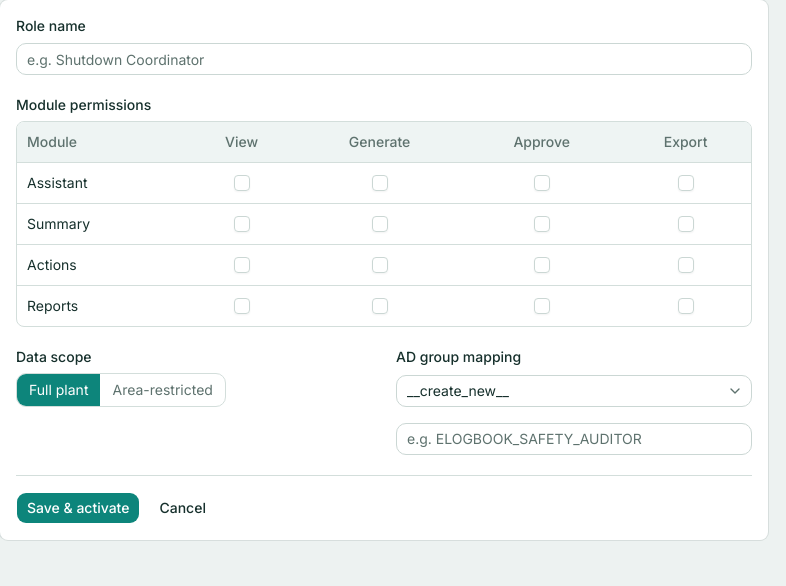
Test: RoleForm › checks a permission cell and includes it in the submitted values
Type "Safety Auditor" into the field labelled "Role name" at (384, 59), box [16, 43, 752, 75]
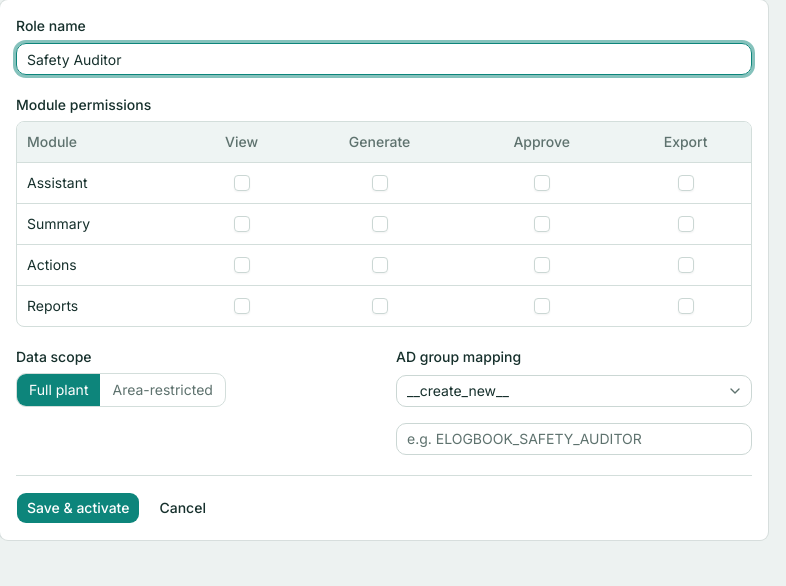
Click the checkbox named "Reports — Export" at (686, 306), box [678, 298, 694, 314]
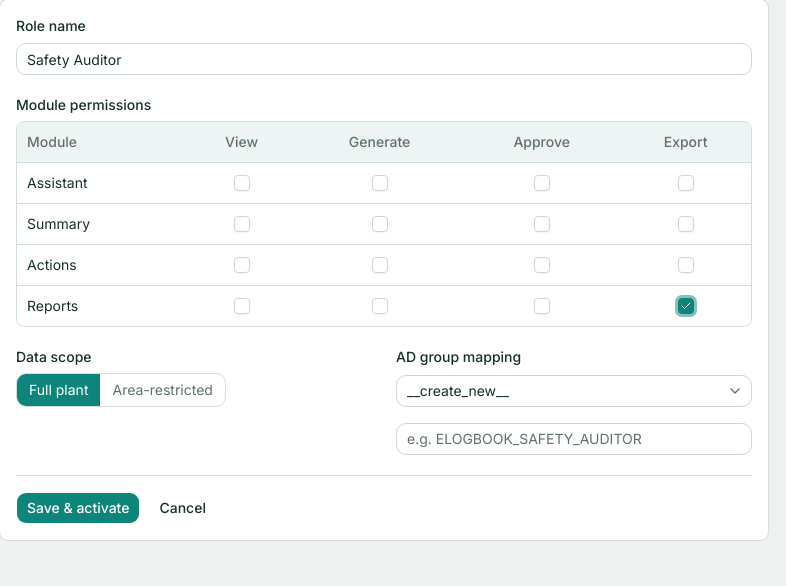
Click the button "Save & activate" at (78, 508), box [16, 492, 140, 524]
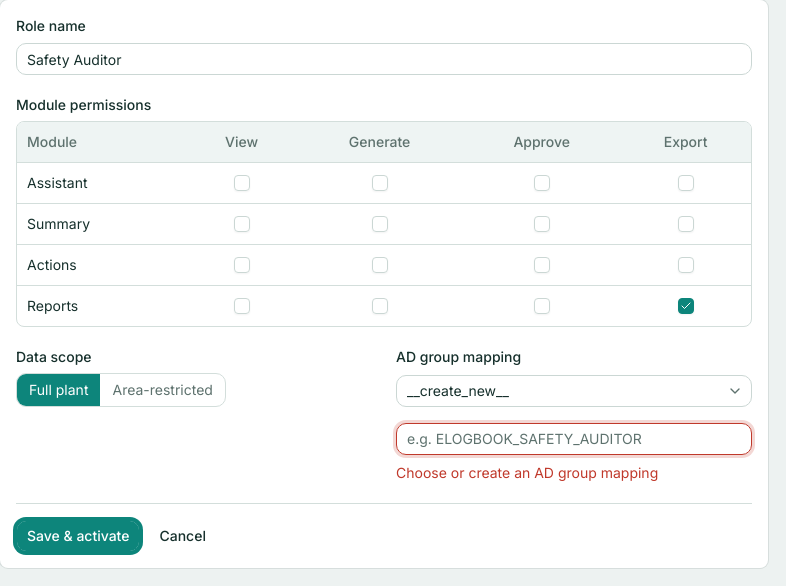
Expected: the text "Choose or create an AD group mapping" is shown, [396, 464, 658, 480]
